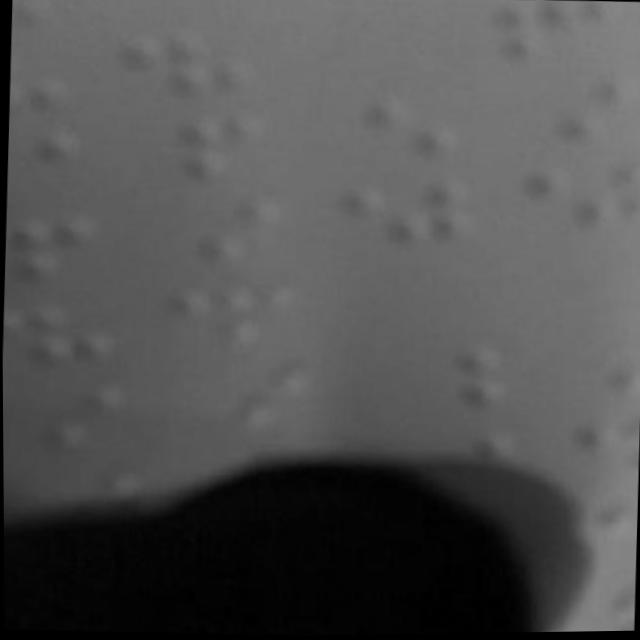braiile: (166, 358, 322, 443), (349, 338, 512, 419), (315, 176, 480, 256), (122, 109, 274, 195), (308, 92, 462, 173), (152, 278, 302, 361), (142, 194, 291, 274), (109, 26, 255, 105), (490, 75, 636, 150), (2, 377, 133, 456), (512, 160, 640, 238), (490, 0, 614, 70), (2, 299, 113, 375)
